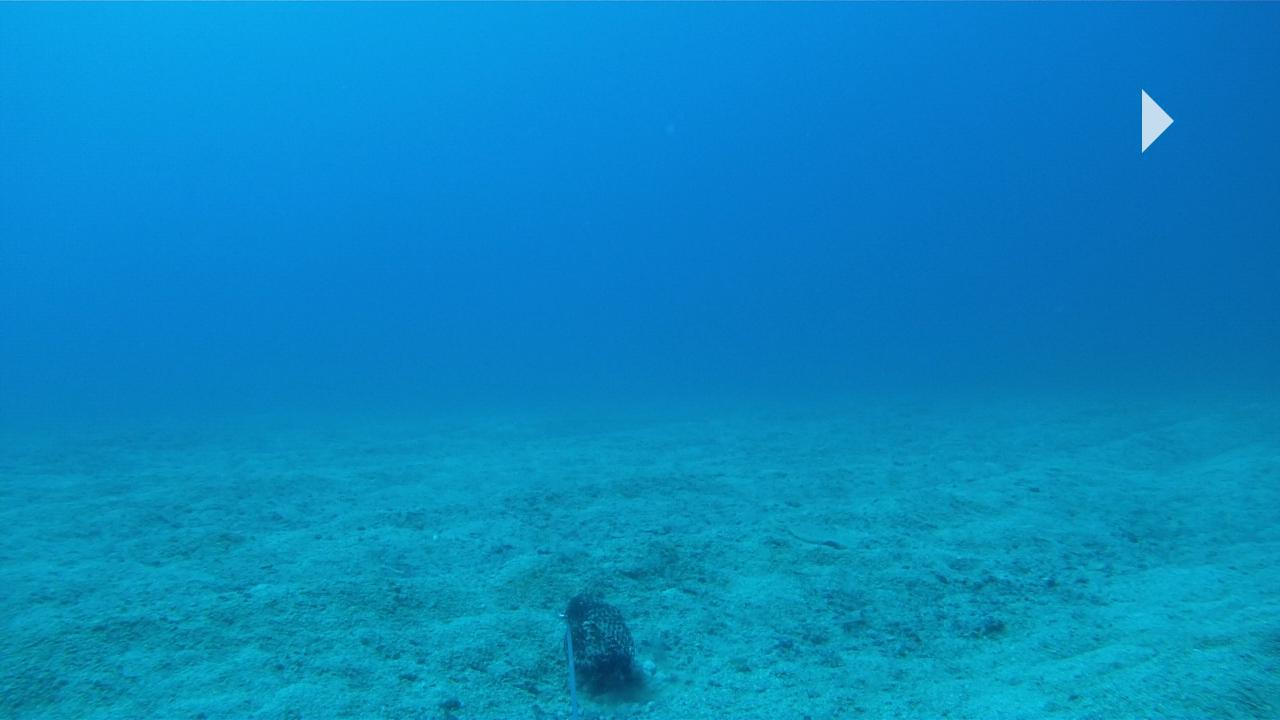bothus: (784, 517, 856, 548)
